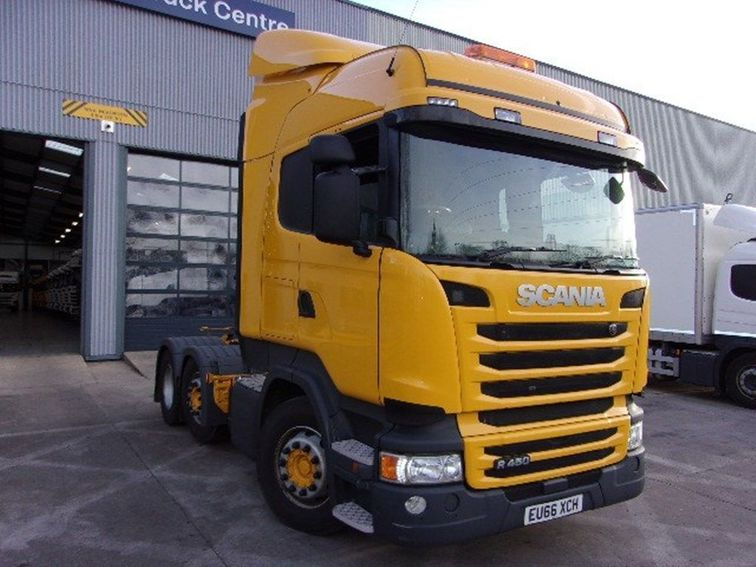Semi: (151, 29, 666, 548)
